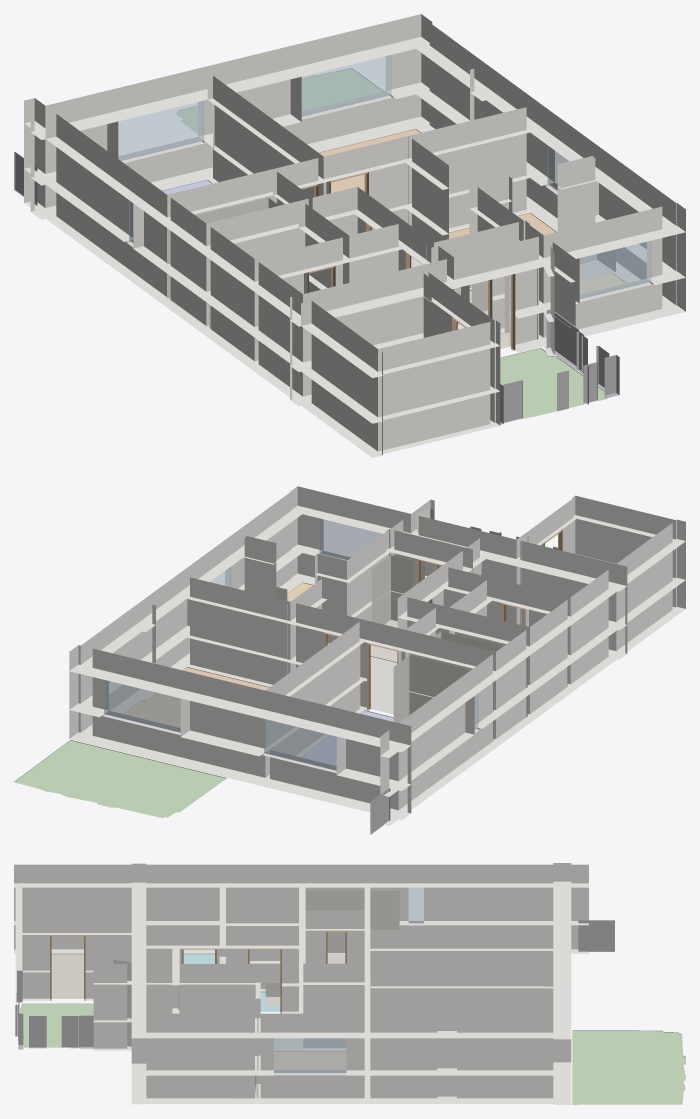
3 views of the same model, one above another, from view 1: azimuth 30°, elevation 25°; view 2: azimuth 150°, elevation 25°; view 3: azimuth 270°, elevation 25° (orthographic). The views are drawn at different scales.
Parts seen in each view (by area): view 1: walls, railings, window_3, floor_13_Outdoor, window_0, window_2, floor_12_Outdoor, furniture_1_closet, floor_1_Living_Room, furniture_4_appliance; view 2: walls, floor_12_Outdoor, furniture_0_closet, window_3, window_0, furniture_2_closet, floor_1_Living_Room, window_2, floor_3_Undefined, floor_0_Bed_Room, railings, furniture_1_closet; view 3: walls, floor_12_Outdoor, railings, window_4, furniture_1_closet, floor_13_Outdoor, floor_11_Storage, floor_4_Living_Room, furniture_0_closet, window_13, furniture_8_toilet.
Boxes of the visible parts, x1,y1,x2,y2 form: walls: [24, 14, 685, 457]; railings: [14, 152, 619, 424]; window_3: [301, 55, 391, 116]; floor_13_Outdoor: [500, 348, 607, 418]; window_0: [118, 100, 203, 160]; window_2: [576, 238, 651, 299]; floor_12_Outdoor: [176, 68, 383, 133]; furniture_1_closet: [167, 198, 278, 326]; floor_1_Living_Room: [318, 128, 420, 192]; furniture_4_appliance: [580, 249, 615, 280]; walls: [69, 486, 685, 825]; floor_12_Outdoor: [14, 740, 226, 817]; furniture_0_closet: [393, 655, 493, 740]; window_3: [104, 680, 185, 732]; window_0: [264, 714, 336, 770]; furniture_2_closet: [371, 555, 412, 627]; floor_1_Living_Room: [123, 667, 269, 727]; window_2: [319, 518, 380, 560]; floor_3_Undefined: [370, 656, 397, 714]; floor_0_Bed_Room: [301, 710, 393, 765]; railings: [370, 526, 557, 834]; furniture_1_closet: [408, 631, 527, 736]; walls: [14, 863, 588, 1104]; floor_12_Outdoor: [572, 1030, 685, 1104]; railings: [15, 920, 614, 1049]; window_4: [274, 1038, 346, 1073]; furniture_1_closet: [305, 890, 364, 963]; floor_13_Outdoor: [19, 1003, 93, 1047]; floor_11_Storage: [51, 953, 83, 998]; floor_4_Living_Room: [274, 1051, 345, 1069]; furniture_0_closet: [370, 891, 399, 929]; window_13: [408, 887, 423, 923]; furniture_8_toilet: [265, 983, 280, 1006].
Bounding box in the file's own units: 10.78 × 2.72 × 19.45.
